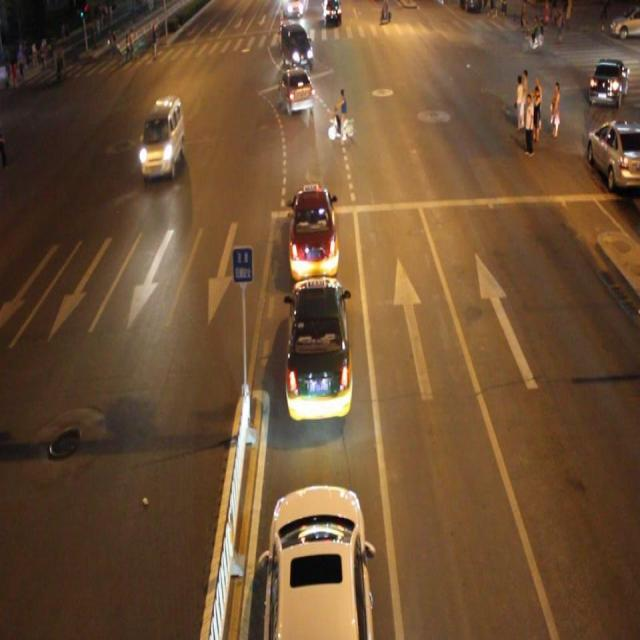car: (268, 457, 377, 640), (286, 272, 354, 446), (576, 98, 640, 210), (138, 95, 193, 201), (574, 41, 628, 138), (299, 182, 351, 278), (278, 67, 328, 125), (272, 14, 317, 72), (598, 10, 640, 41), (314, 0, 350, 30)
